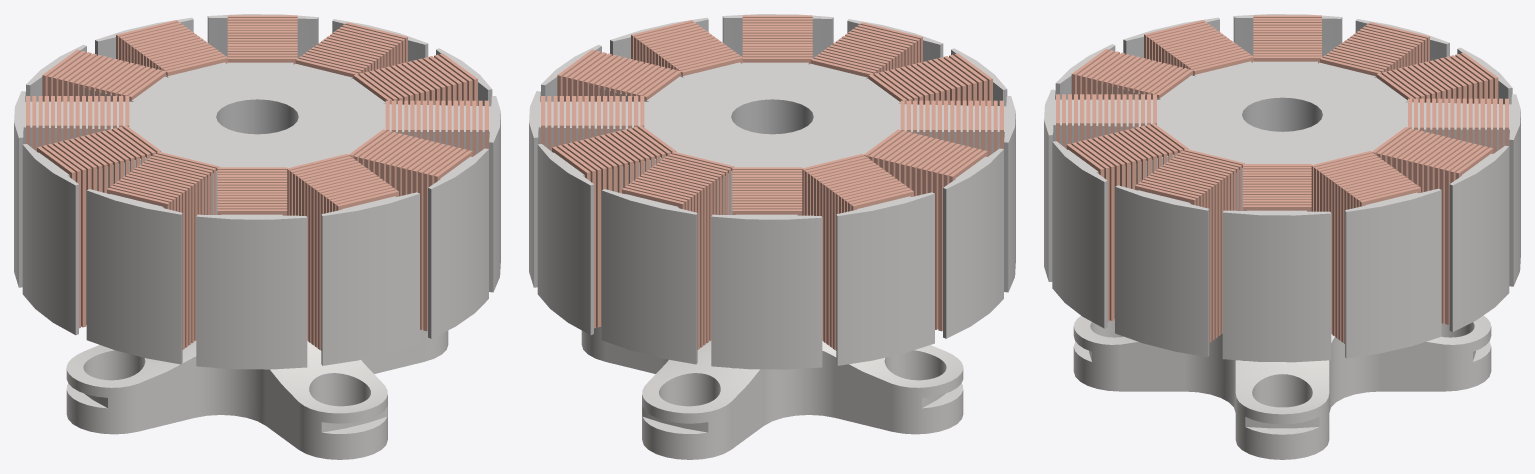
File: stator.glb
The picture shows the model from 3 angles, left to right: view 1: azimuth 30°, elevation 25°; view 2: azimuth 150°, elevation 25°; view 3: azimuth 270°, elevation 25°; orthographic projection. The views are drawn at different scales.
Parts seen in each view (by area): view 1: motor_lower; view 2: motor_lower; view 3: motor_lower.
Part boxes in pixels (x1=…): motor_lower: x1=14, y1=14, x2=500, y2=459; motor_lower: x1=529, y1=14, x2=1015, y2=459; motor_lower: x1=1044, y1=14, x2=1520, y2=459.
Bounding box in the file's own units: 0.0475 × 0.0287 × 0.0475.
